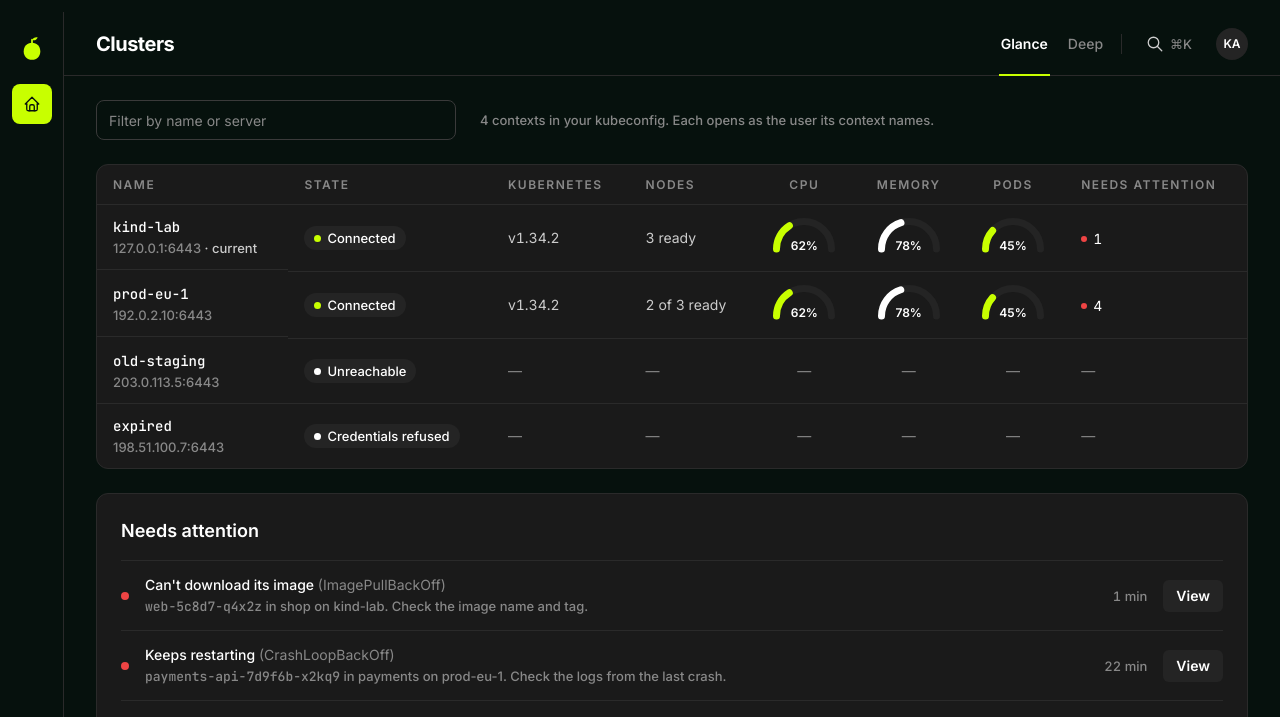
Clusters page › follows the cluster filter and Glance mode
Type "kind" into the search field named "Filter clusters" at [276, 120], box [96,100,456,140]
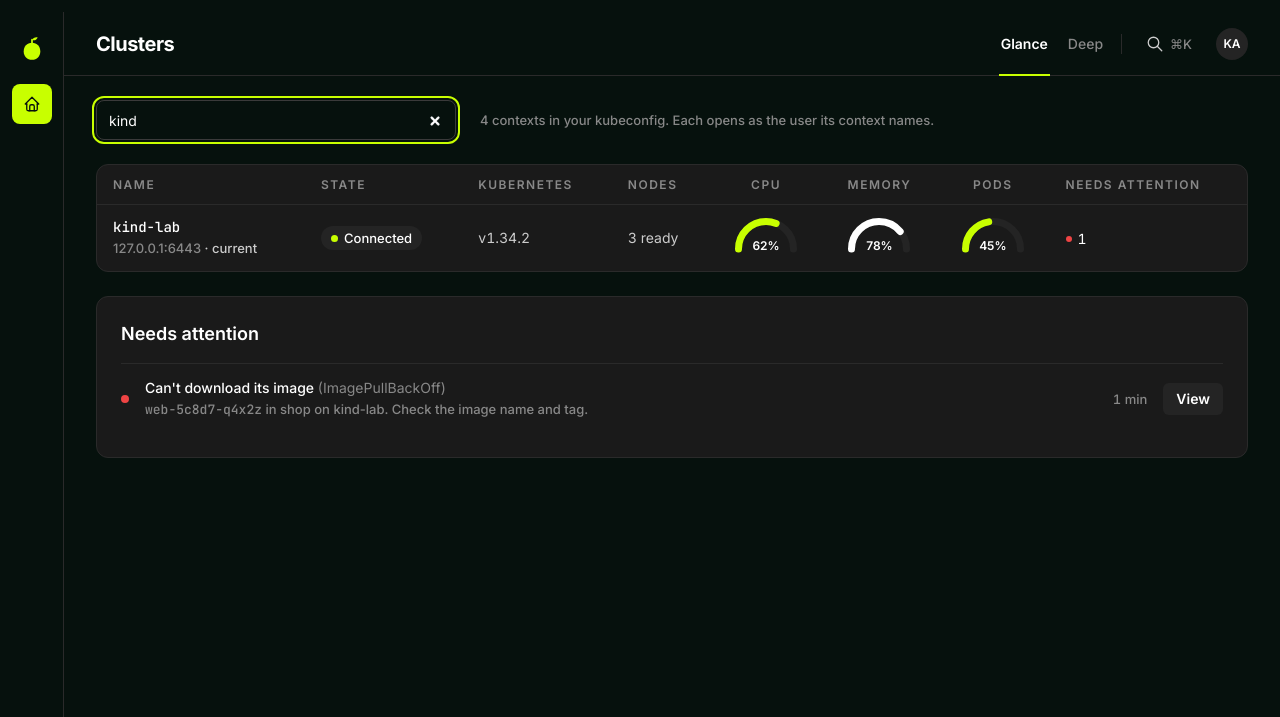
Expected: the element "Needs attention" no longer shows "couldn't be checked", [96,296,1248,458]
